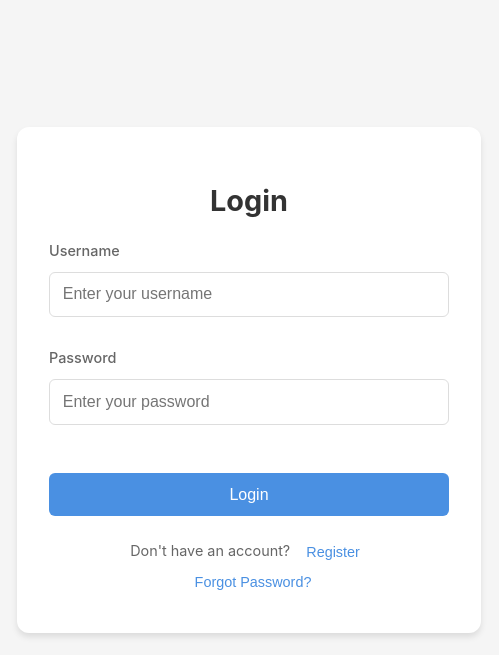
Scenario: LoginPage 组件测试 › 处理登录错误
This screenshot has width=499, height=655.
In the field labelled "Username": {"x": 249, "y": 294} [49,272,449,317], type "testuser"
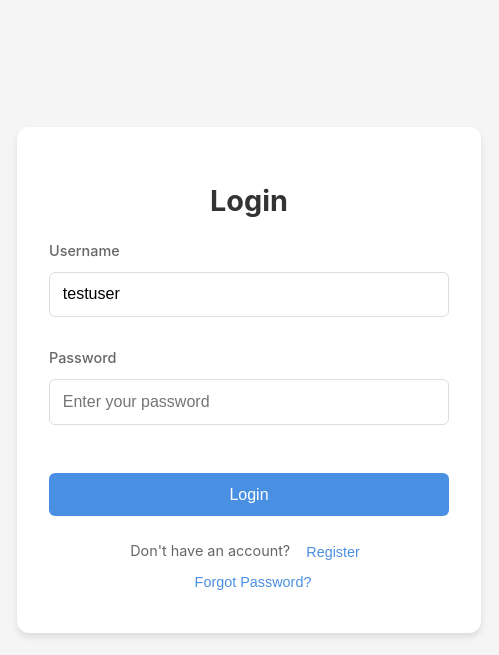
In the password field labelled "Password": {"x": 249, "y": 402} [49,379,449,425], type "wrongpassword"
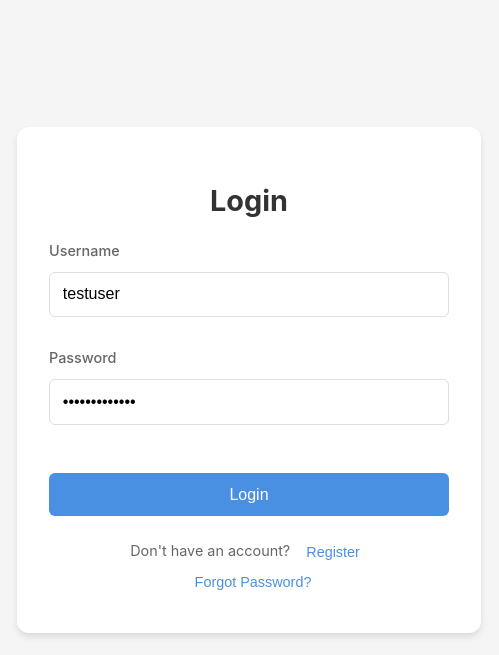
Click the button "Login": {"x": 249, "y": 495} [49,473,449,516]
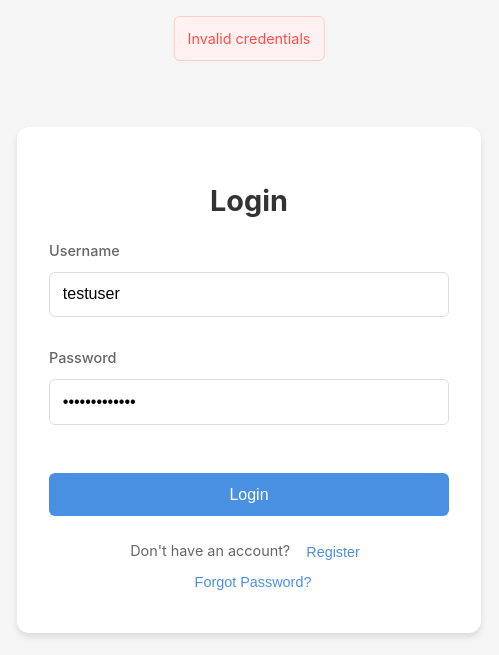
Now the text "Invalid credentials" is shown, box [174,16,324,61]
